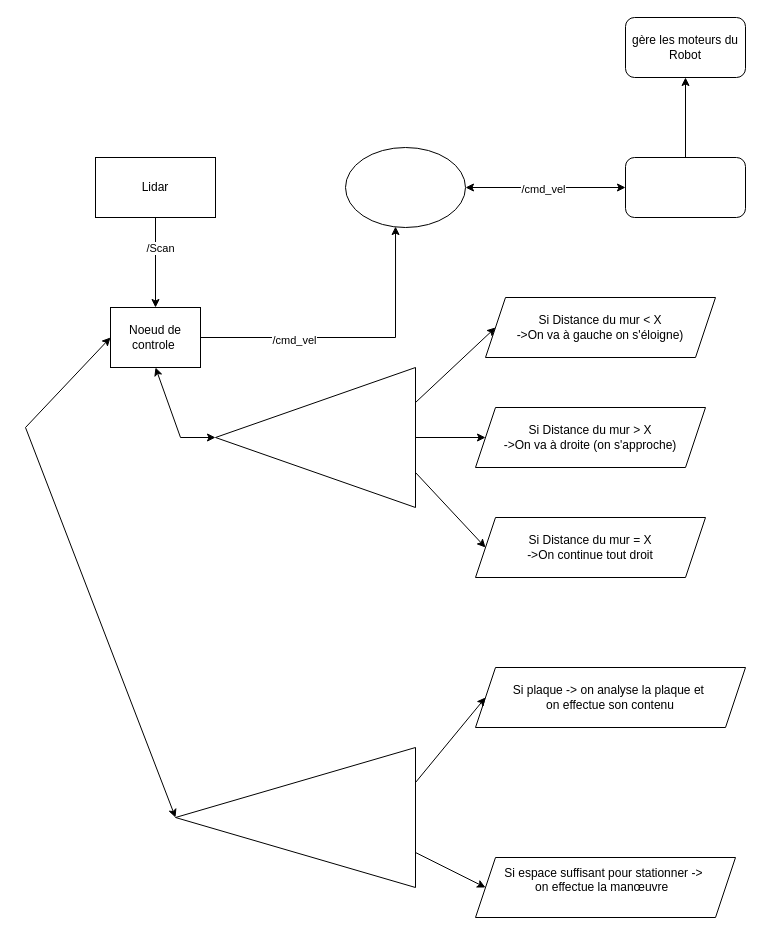
Some shapes in this 763 by 935 pixel diagram are drawn without their labels. Here are the shapes that lost their labels. From the top down, the centre of each, then its label:
At (405,187): "ROBOT Raspberry Pi 4".
At (685,187): "Sabertooth".
At (315,437): "Les cas possibles Pour la distance D du mur".
At (295,817): "Les cas possibles Pour la détection de place ou de plaque".
